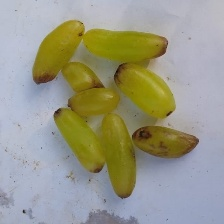grapes: (24, 40, 168, 180)
